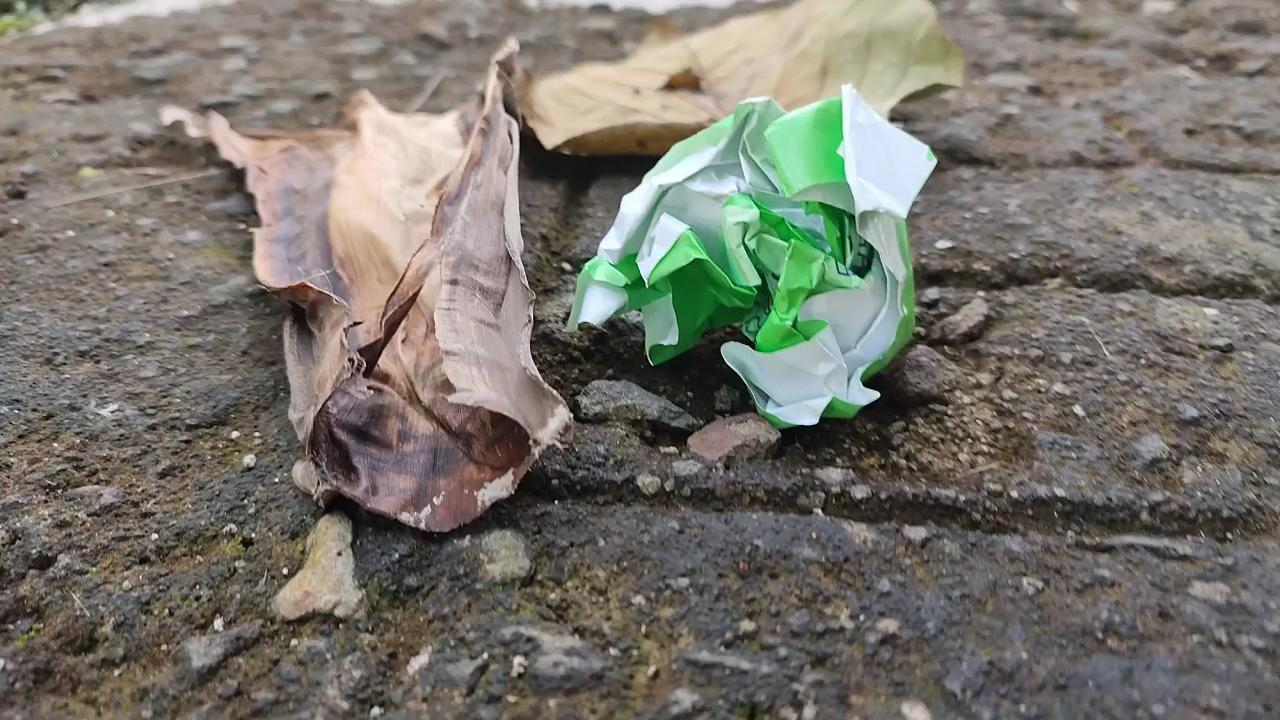Paper: (565, 81, 959, 436)
